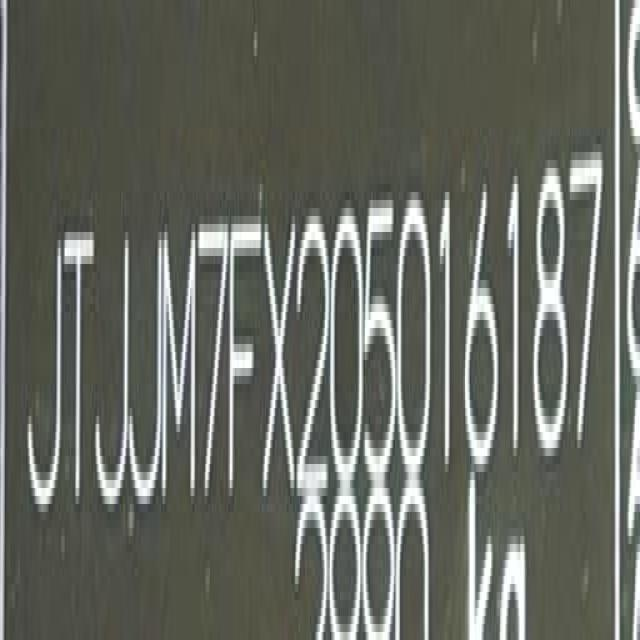0: (399, 190, 433, 473), (334, 200, 364, 480)
1: (507, 166, 528, 467), (438, 184, 458, 476)
2: (295, 195, 332, 495)
5: (364, 196, 398, 477)
6: (462, 172, 500, 470)
7: (573, 145, 607, 459), (199, 216, 229, 516)
8: (534, 155, 570, 461)
F: (228, 202, 263, 504)
J: (94, 228, 136, 528), (26, 230, 68, 528), (130, 232, 164, 529)
M: (163, 219, 198, 524)
T: (63, 226, 93, 531)
X: (261, 204, 297, 514)
